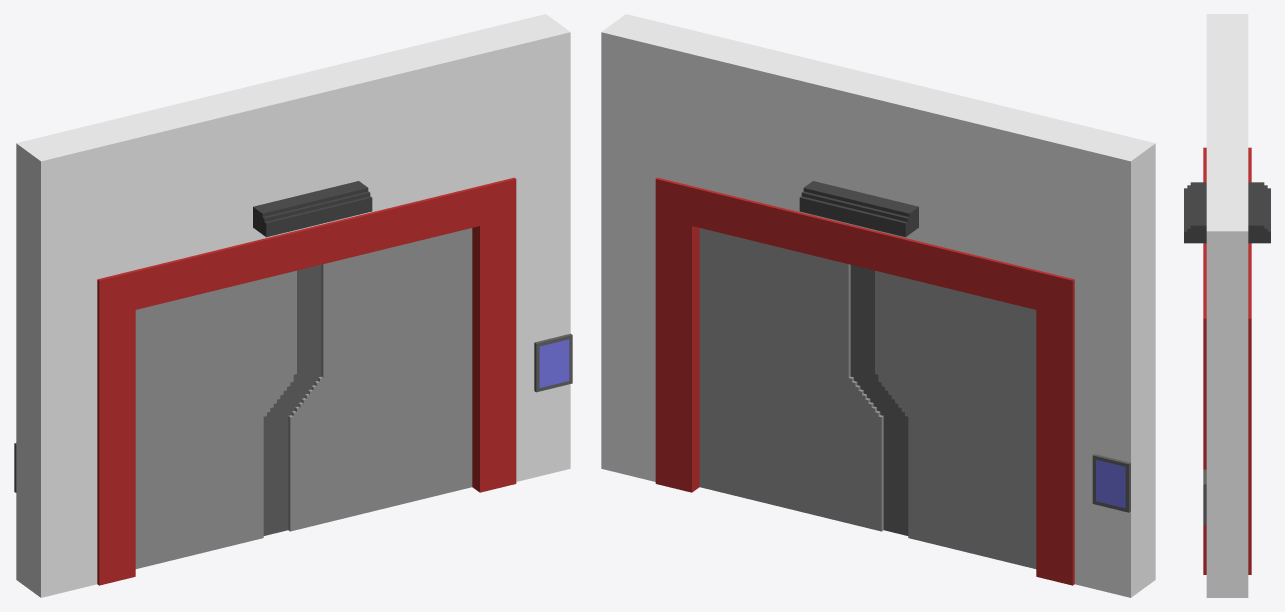
File: Operating_room_Door2-2.fbx
3 views of the same model, side by side, from view 1: azimuth 30°, elevation 25°; view 2: azimuth 150°, elevation 25°; view 3: azimuth 270°, elevation 25° (orthographic). The views are drawn at different scales.
Visible parts, largest first — view 1: Operating room Door2-2.002, Operating room Door2-2.008, Operating room Door2-2.001, Operating room Door2-2.000, Operating room Door2-2.009, Operating room Door2-2.010; view 2: Operating room Door2-2.002, Operating room Door2-2.008, Operating room Door2-2.001, Operating room Door2-2.000, Operating room Door2-2.009, Operating room Door2-2.007; view 3: Operating room Door2-2.009, Operating room Door2-2.002, Operating room Door2-2.000.
Boxes of the visible parts, left/top/right/bottom form: Operating room Door2-2.002: left=73, top=28, right=516, bottom=585; Operating room Door2-2.008: left=275, top=228, right=472, bottom=533; Operating room Door2-2.001: left=135, top=268, right=308, bottom=568; Operating room Door2-2.000: left=14, top=129, right=97, bottom=597; Operating room Door2-2.009: left=490, top=14, right=572, bottom=481; Operating room Door2-2.010: left=539, top=339, right=569, bottom=387; Operating room Door2-2.002: left=655, top=28, right=1098, bottom=585; Operating room Door2-2.008: left=699, top=228, right=896, bottom=533; Operating room Door2-2.001: left=863, top=268, right=1036, bottom=568; Operating room Door2-2.000: left=1074, top=129, right=1155, bottom=597; Operating room Door2-2.009: left=601, top=14, right=681, bottom=481; Operating room Door2-2.007: left=1096, top=459, right=1125, bottom=508; Operating room Door2-2.009: left=1203, top=208, right=1248, bottom=597; Operating room Door2-2.002: left=1184, top=37, right=1270, bottom=574; Operating room Door2-2.000: left=1206, top=14, right=1248, bottom=36.
Size of the model in its own units: 1600 by 1260 by 270.
